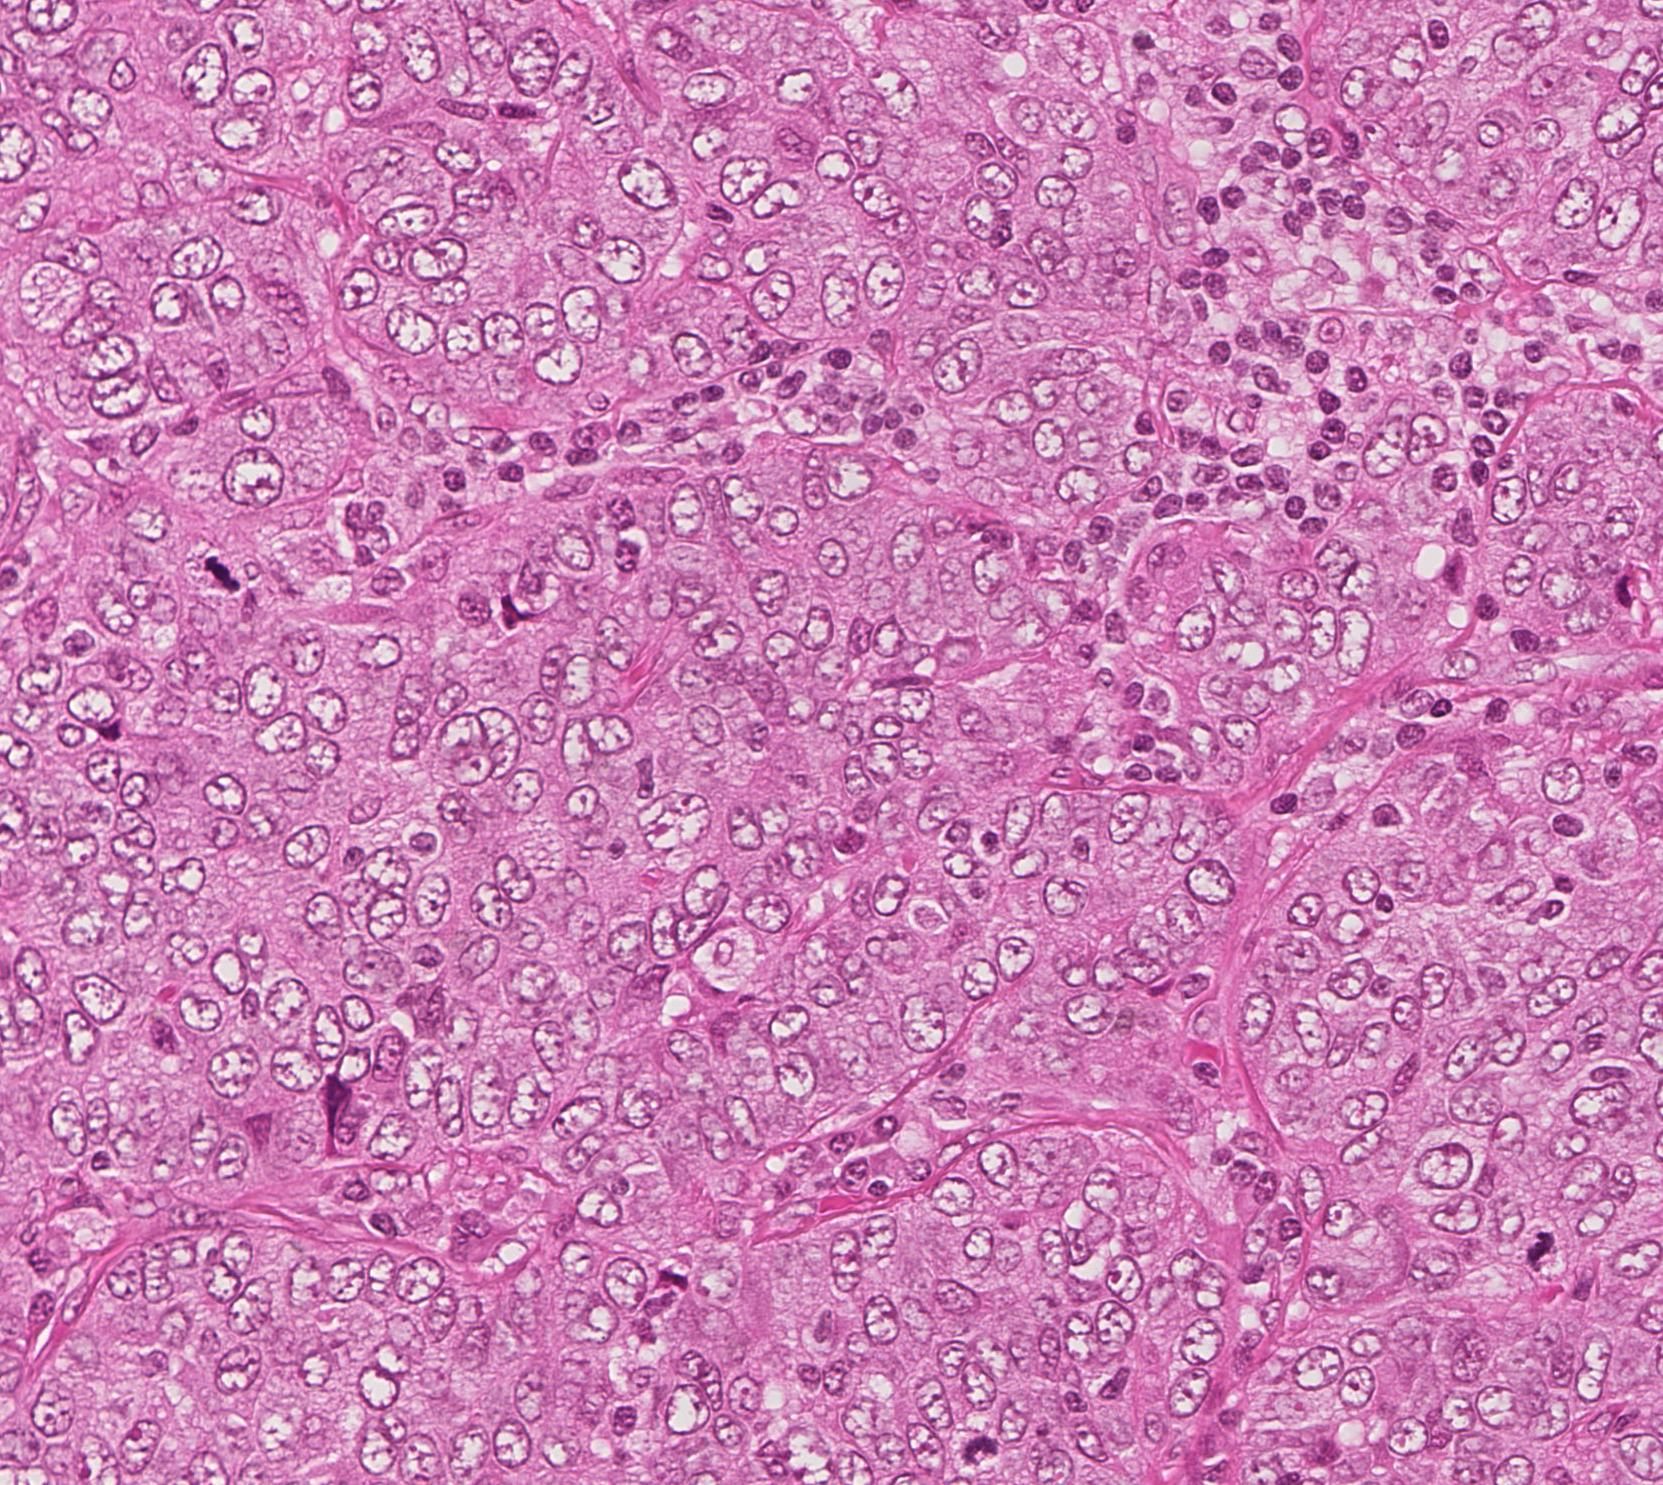mitosis: (195, 545, 255, 605), (938, 1416, 998, 1476), (1510, 1220, 1570, 1280)
